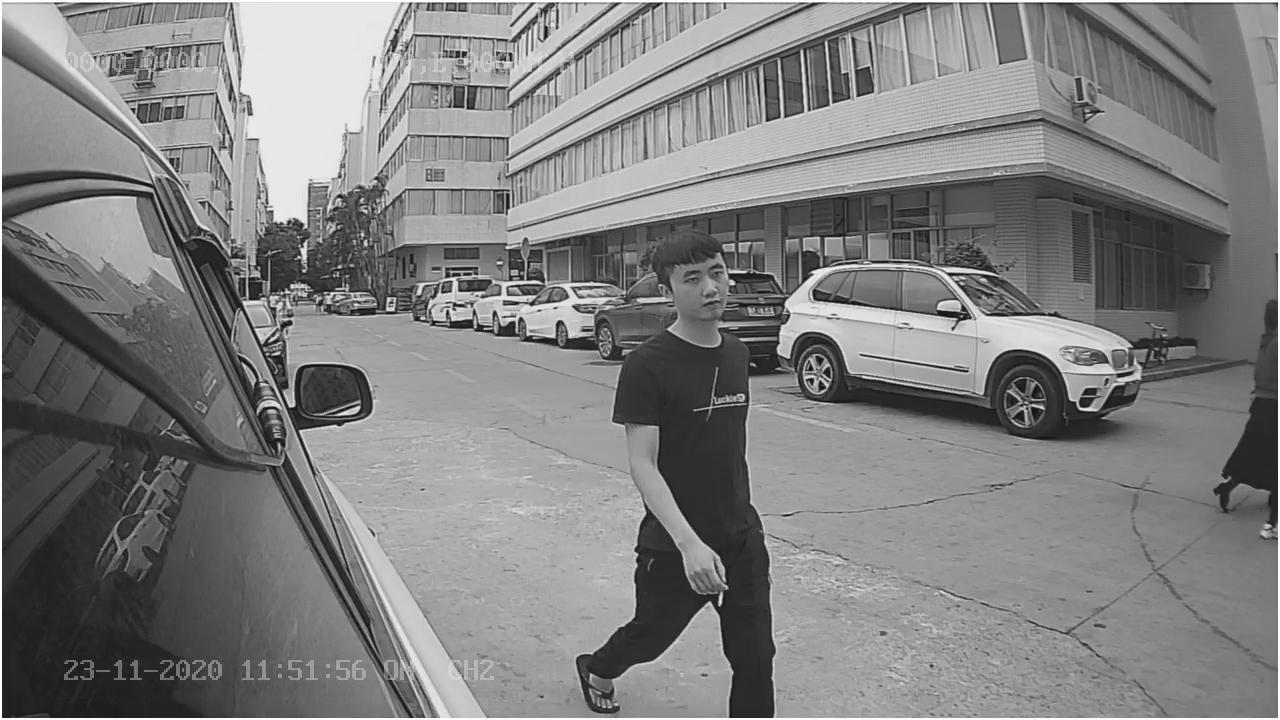person: (618, 224, 776, 519)
